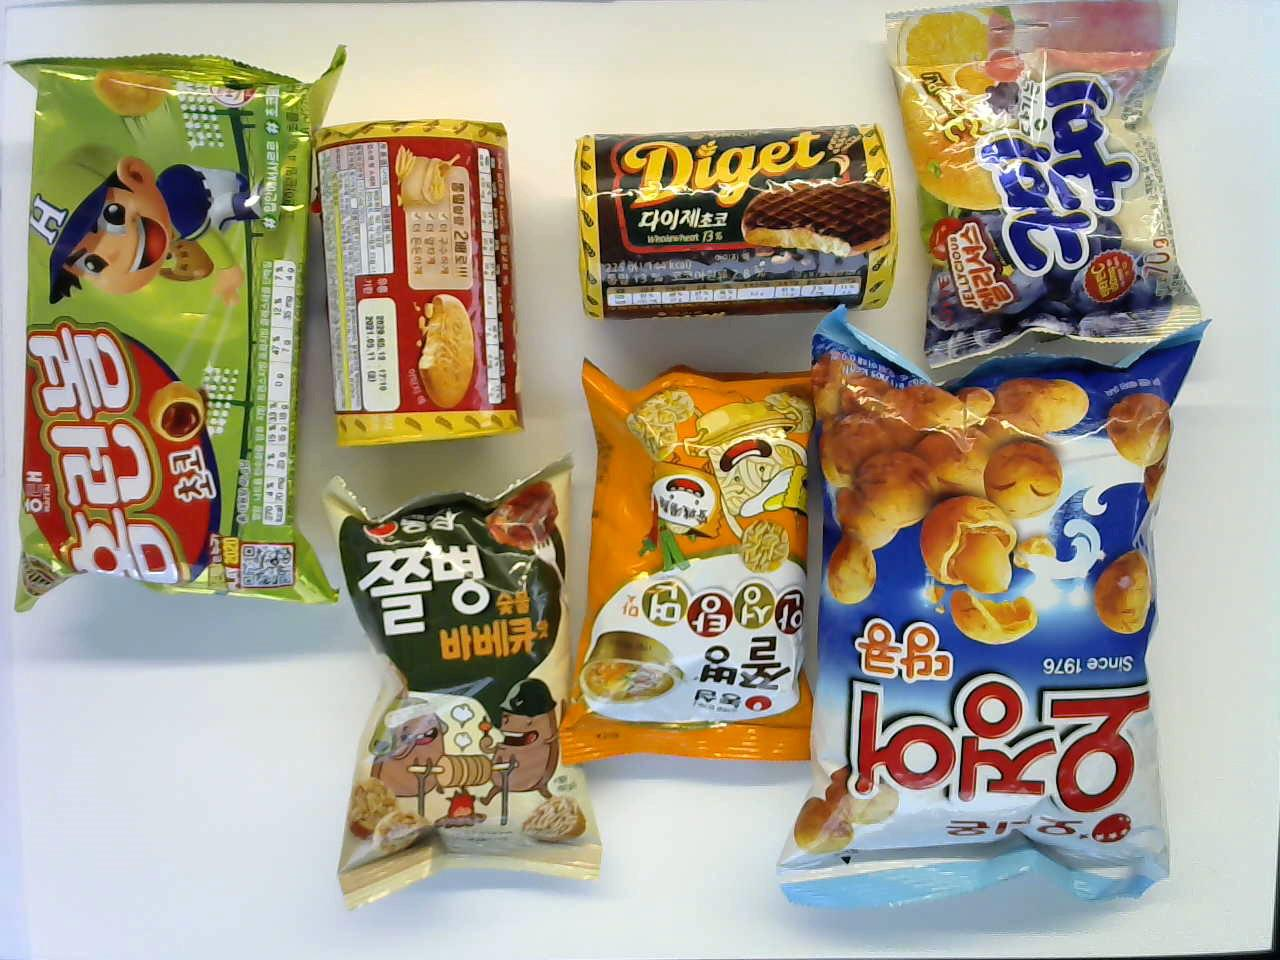diget_choco: (572, 123, 896, 321)
diget_ori: (314, 114, 531, 454)
gumi_gumi: (881, 3, 1209, 372)
homerunball: (10, 41, 322, 612)
jjolbyung_noodle: (558, 351, 849, 777)
jjolbyung_ori: (315, 450, 610, 919)
squid_peanut: (805, 288, 1219, 915)
